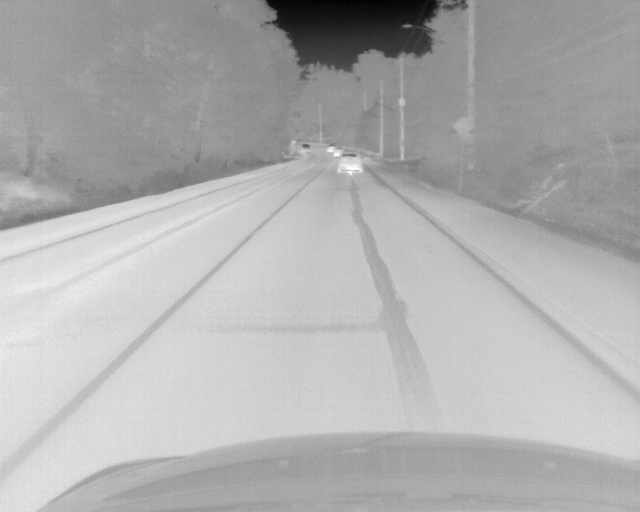car: (336, 151, 365, 175), (300, 143, 310, 153), (332, 148, 341, 157), (326, 144, 335, 152)
